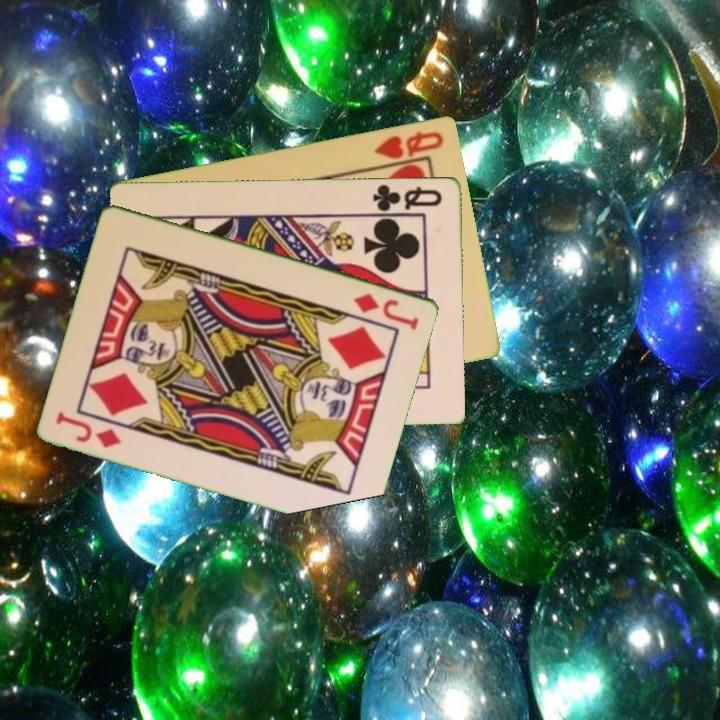Jd: (350, 289, 422, 333), (53, 407, 125, 451)
Qc: (369, 180, 445, 214)
Qh: (371, 127, 447, 162)
